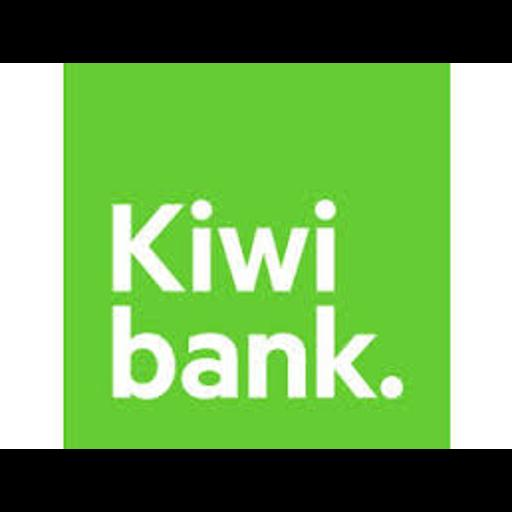Kiwibank Limited: (0, 63, 512, 449)
